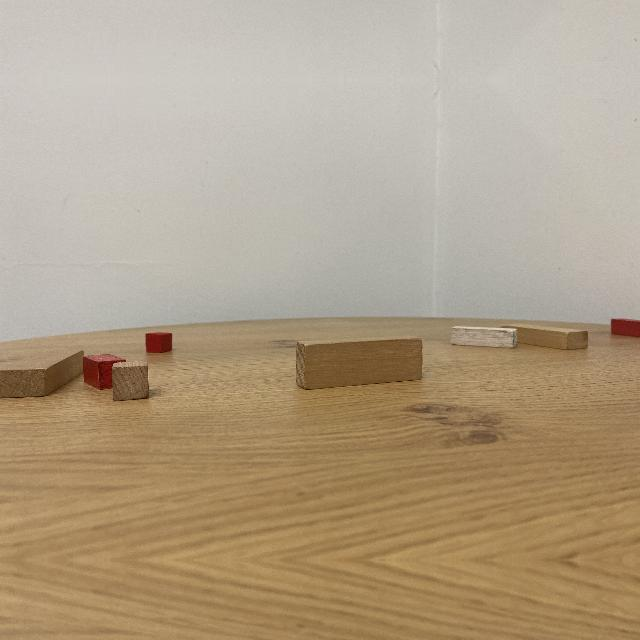block: (450, 326, 519, 349)
cube: (112, 361, 149, 401)
jenga: (296, 335, 423, 390), (0, 350, 84, 398), (501, 324, 587, 349)
red block: (83, 354, 126, 390), (611, 319, 640, 338)
red cube: (145, 332, 173, 353)
